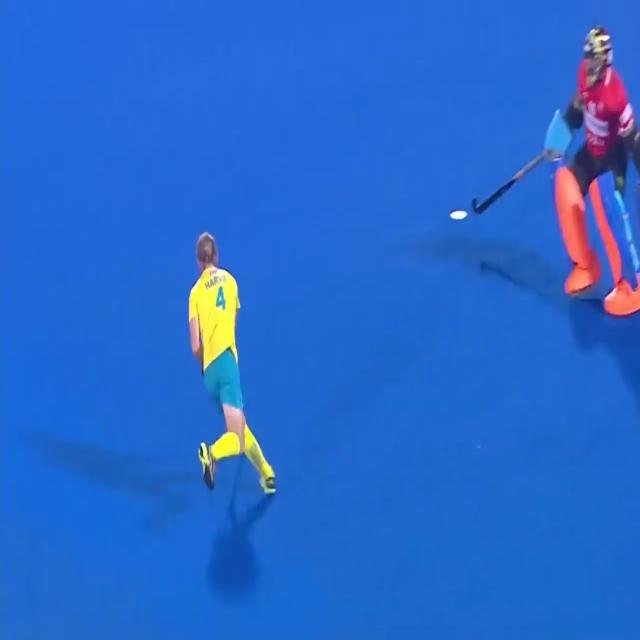ball: (422, 199, 491, 243)
